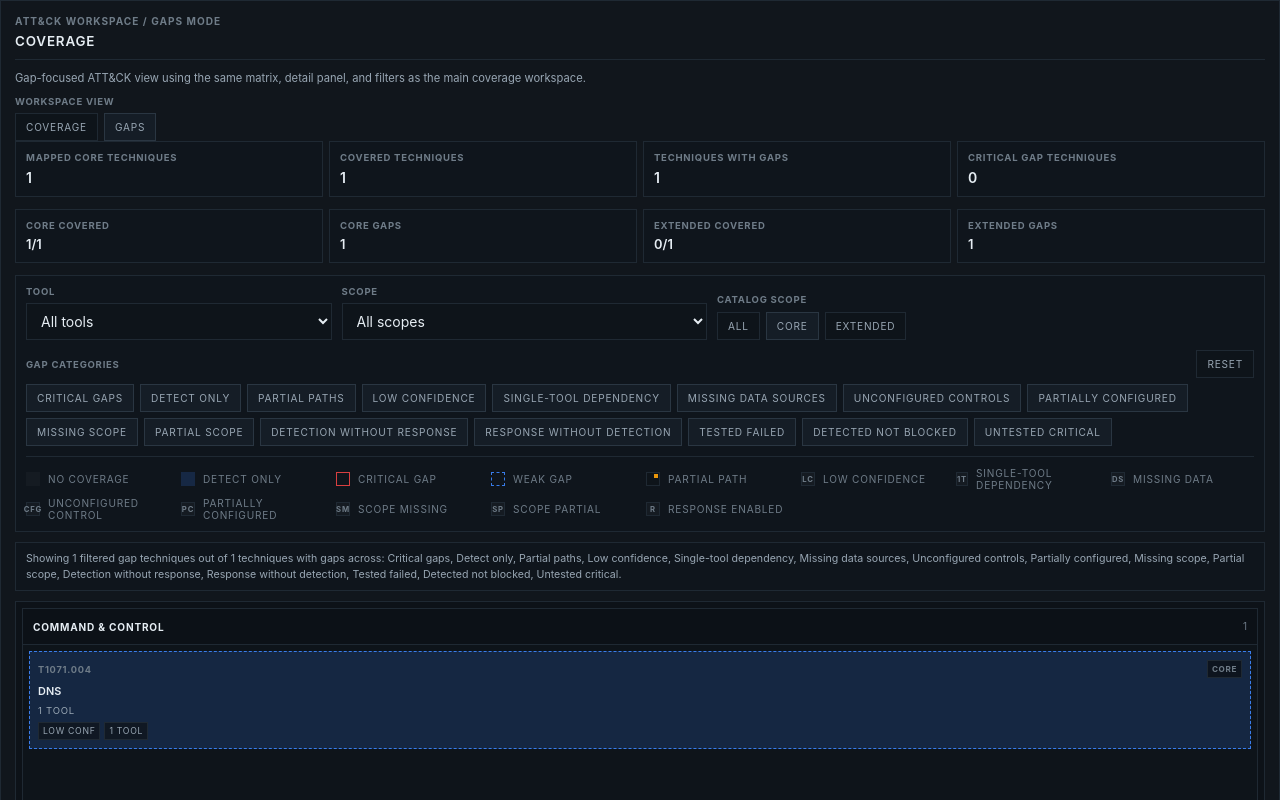
Scenario: GapsPage › filters gaps by core and extended catalog scope
This screenshot has width=1280, height=800.
Expected: the text "DNS" is shown, [38,684,61,698]
Expected: the text "Exploit Public-Facing Application" is not shown
Step 1. Click the button "all" → (738,326), box [717,312,760,340]
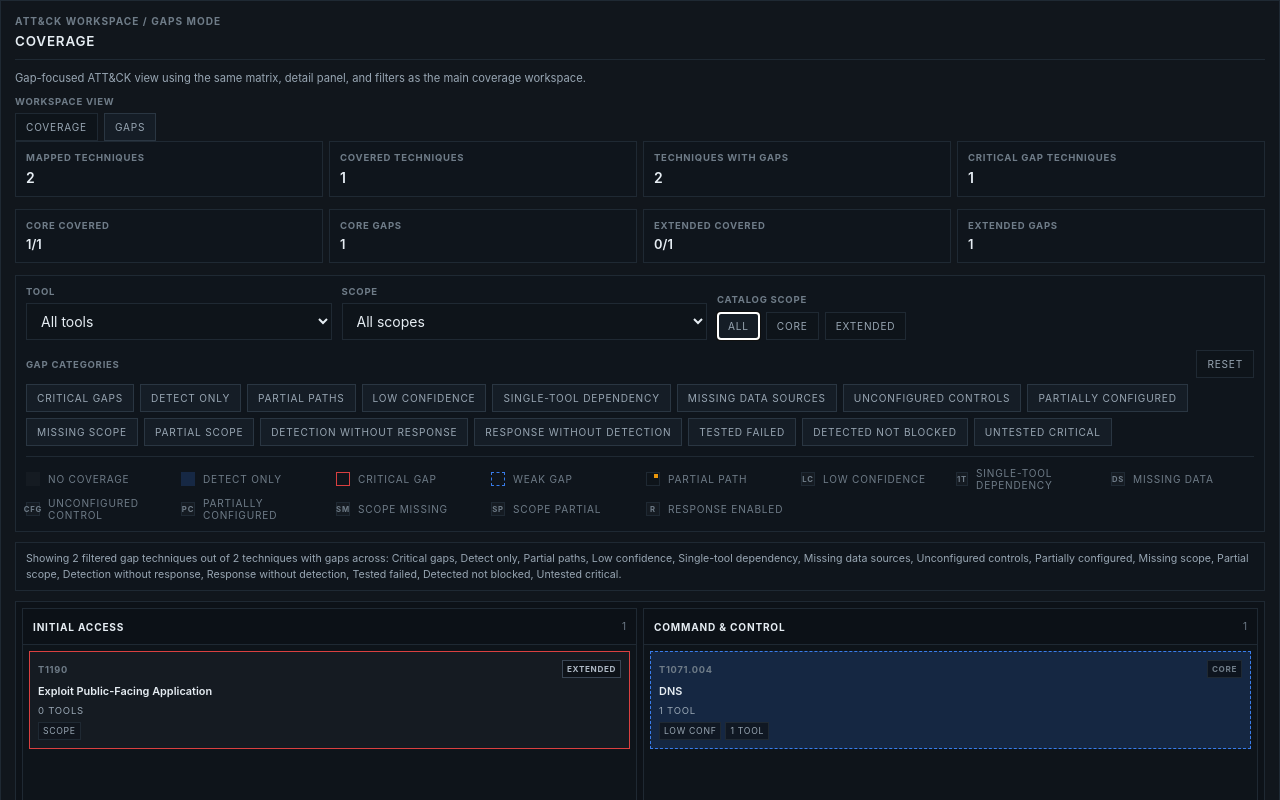
Expected: the text "DNS" is shown, [659,684,682,698]
Now the text "Exploit Public-Facing Application" is shown, box [38,684,212,698]
Step 2. Click the button "extended" → (866,326), box [825,312,906,340]
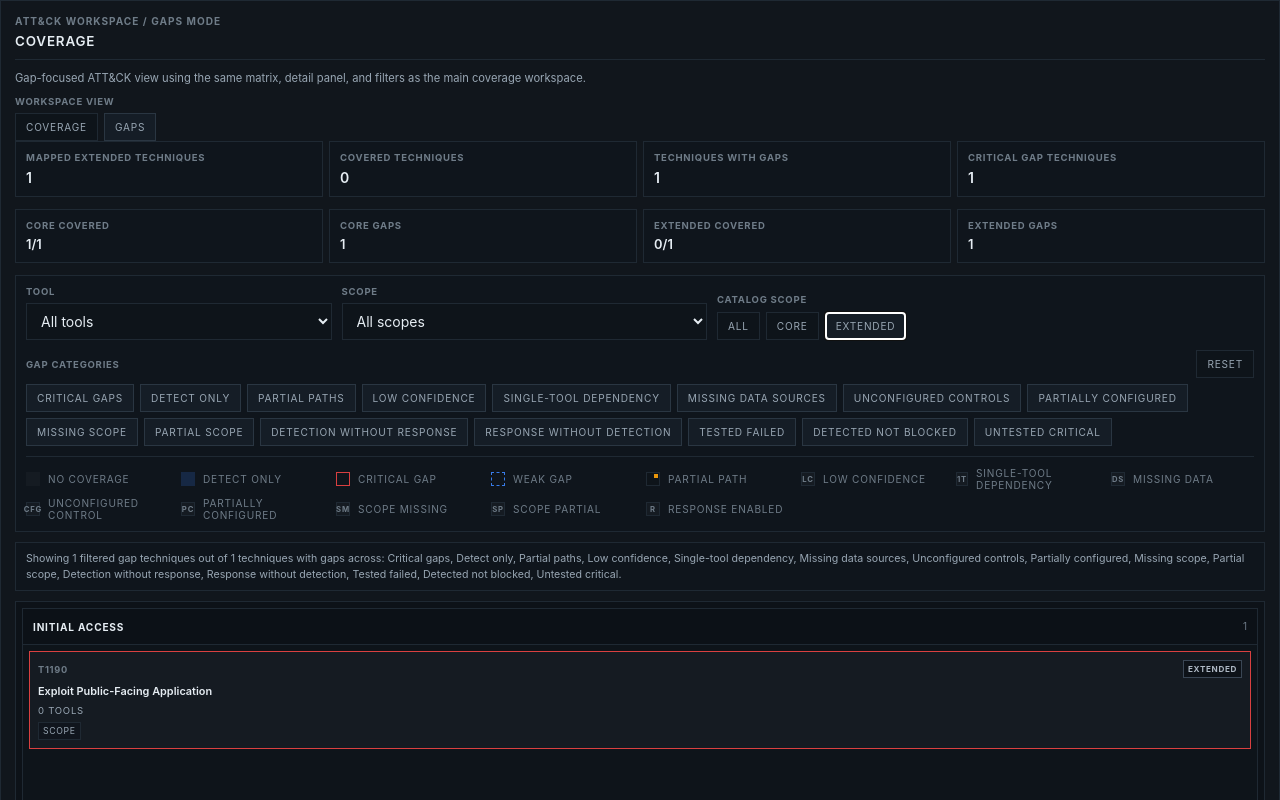
Now the text "Exploit Public-Facing Application" is shown, box [38,684,212,698]
Now the button "DNS" is gone
